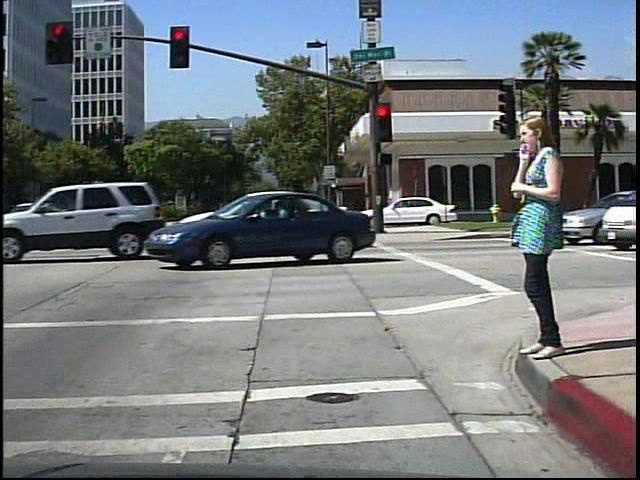person: (506, 106, 569, 369)
